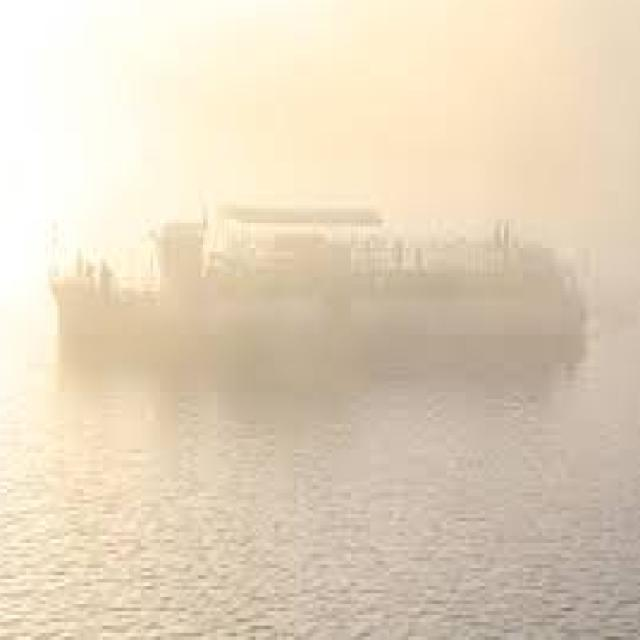fishing boat: (42, 183, 578, 380)
